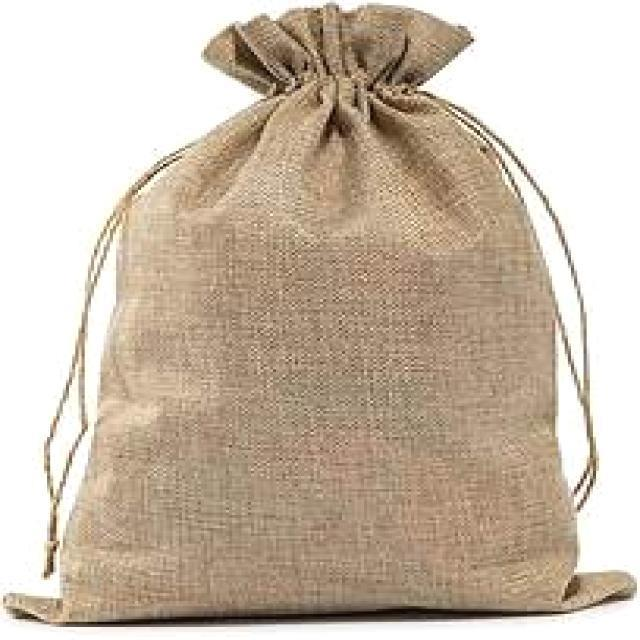gunny_bag: (4, 0, 640, 626)
